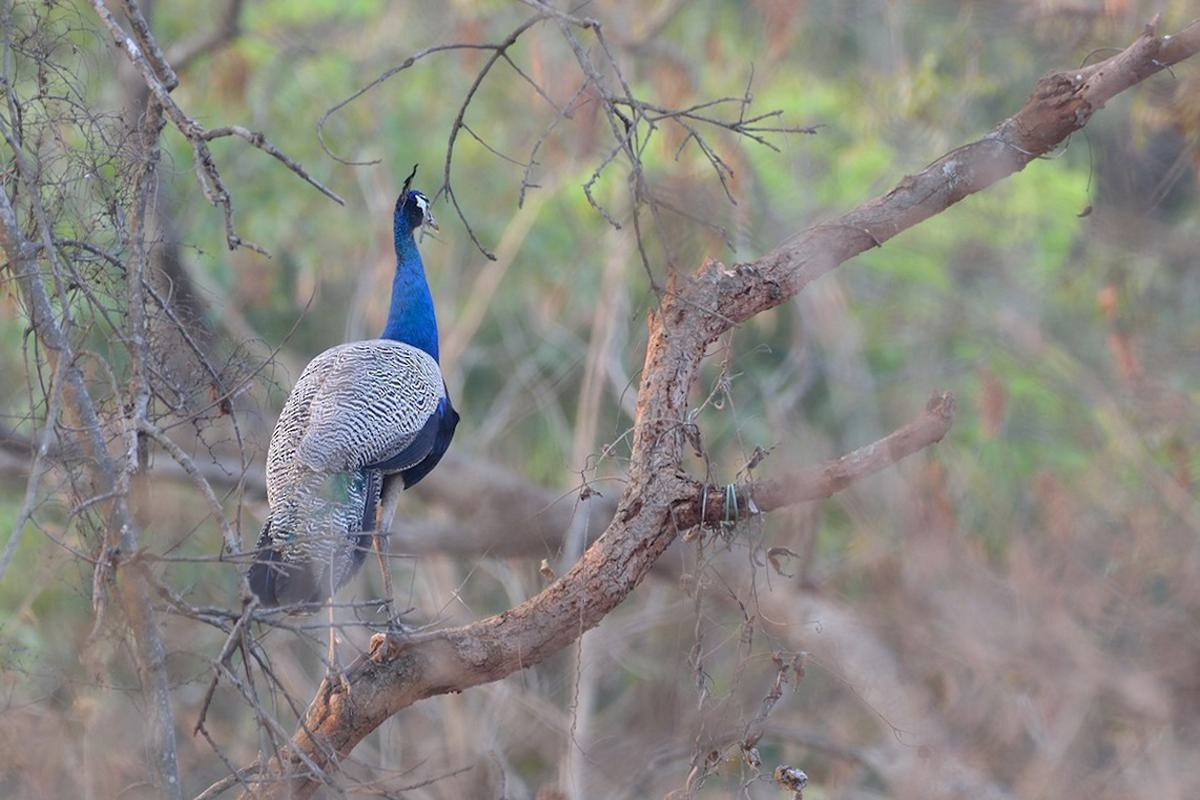peacock: (237, 142, 495, 716)
